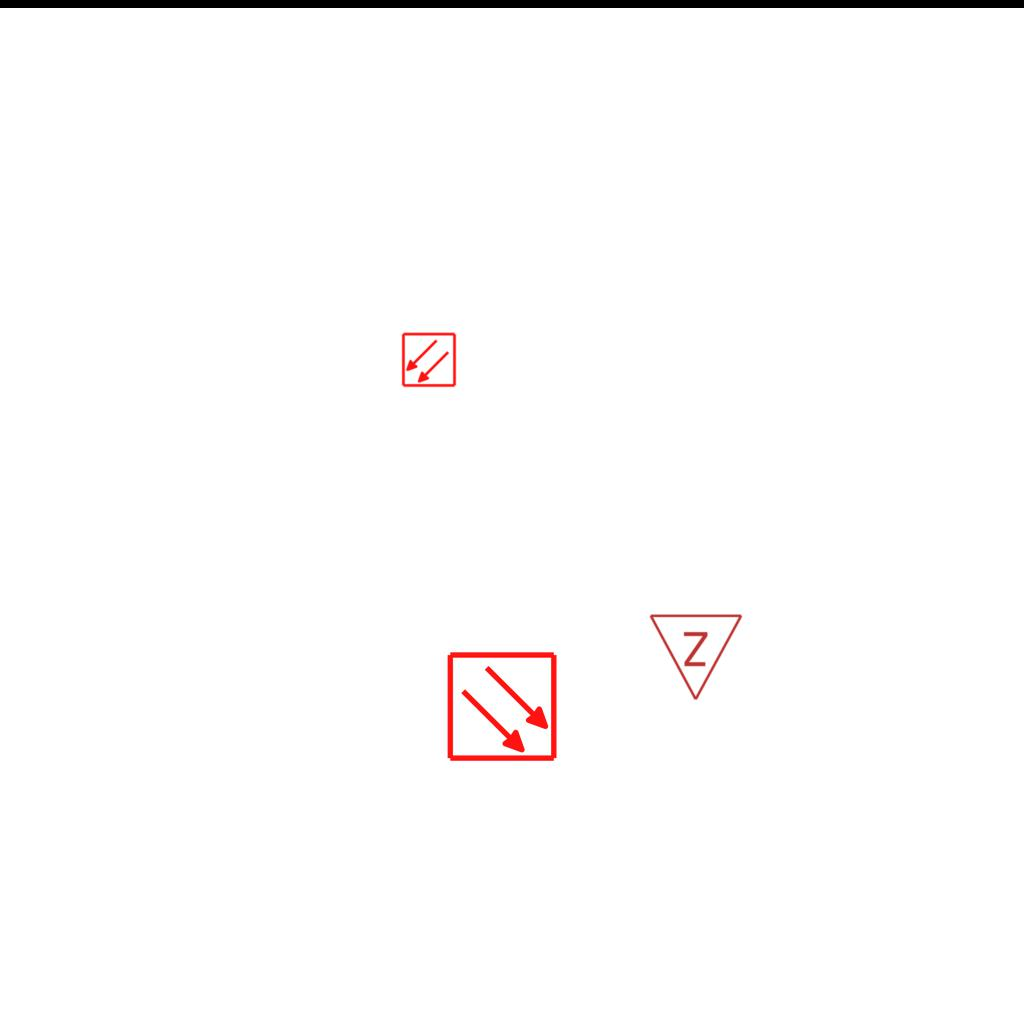RMO_Rauchmelder_optischer: (446, 650, 559, 763), (401, 332, 457, 388)
Zimmersignalleuchte: (648, 607, 746, 707)
